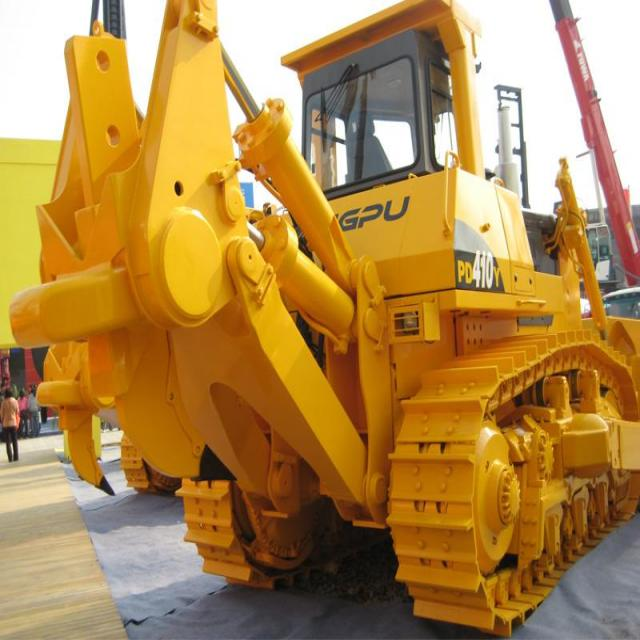Bulldozer: (13, 12, 639, 639)
